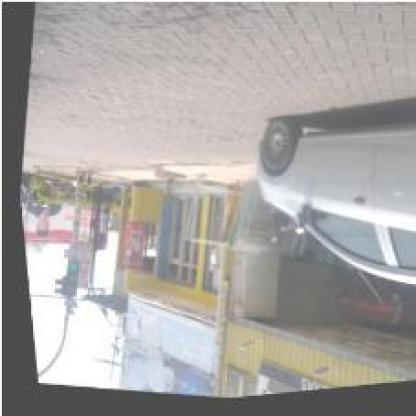green: (52, 258, 76, 299)
